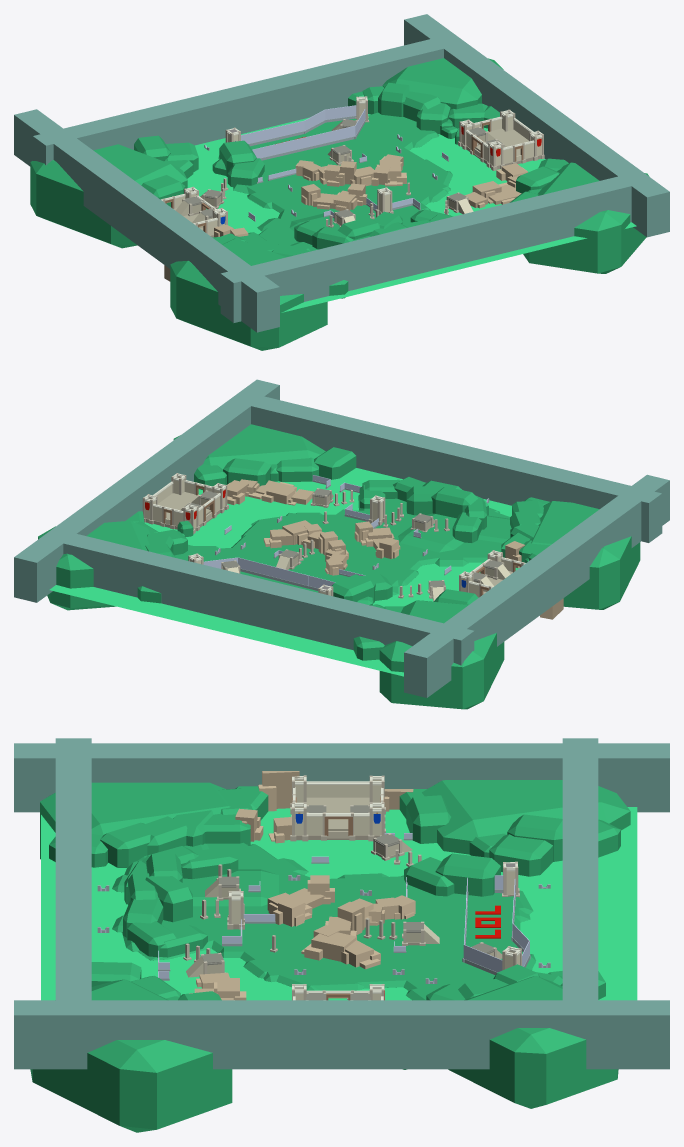
3 views of the same model, one above another, from view 1: azimuth 30°, elevation 25°; view 2: azimuth 150°, elevation 25°; view 3: azimuth 270°, elevation 25° (orthographic). The views are drawn at different scales.
Visible parts, largest first — view 1: Cube.131, Cube.130, Cube.010, Cube.049, aground, Plane.001, Cube.217, Cube.218, Cube.216, Cube.215, Cube.153, Cube.347 (+14 smaller); view 2: Cube.130, Cube.131, Cube.010, aground, Cube.049, Plane.001, Cube.218, Cube.217, Cube.215, Cube.216, Cube.134, Cube.138 (+11 smaller); view 3: Cube.049, Cube.010, aground, Plane.001, Cube.216, Cube.131, Cube.130, Cube.215, Cube.218, Cube.217, Cube.177, Cube.134 (+33 smaller).
Boxes of the visible parts, box(x1,y1,x2,y2) form: Cube.131: box(220, 176, 631, 322); Cube.130: box(33, 35, 465, 165); Cube.010: box(14, 109, 279, 332); Cube.049: box(404, 14, 669, 237); aground: box(187, 114, 636, 312); Plane.001: box(253, 115, 443, 245); Cube.217: box(170, 238, 327, 350); Cube.218: box(30, 144, 187, 248); Cube.216: box(523, 162, 649, 273); Cube.215: box(382, 58, 503, 109); Cube.153: box(378, 82, 409, 116); Cube.347: box(227, 158, 264, 186); Cube.130: box(43, 530, 474, 665); Cube.131: box(231, 392, 662, 542); Cube.010: box(404, 474, 669, 697); aground: box(49, 468, 518, 676); Cube.049: box(14, 379, 279, 602); Plane.001: box(174, 498, 503, 592); Cube.218: box(379, 600, 504, 709); Cube.217: box(525, 501, 640, 609); Cube.215: box(38, 520, 149, 610); Cube.216: box(173, 424, 325, 468); Cube.134: box(398, 513, 463, 552); Cube.138: box(314, 447, 356, 479); Cube.049: box(14, 1000, 669, 1069); Cube.010: box(14, 743, 669, 812); aground: box(41, 807, 637, 1000); Plane.001: box(161, 843, 515, 989); Cube.216: box(30, 979, 232, 1132); Cube.131: box(55, 738, 91, 1069); Cube.130: box(562, 738, 598, 1069); Cube.215: box(448, 976, 618, 1108); Cube.218: box(422, 780, 630, 854); Cube.217: box(40, 782, 257, 859); Cube.177: box(435, 853, 500, 896); Cube.134: box(182, 869, 278, 906).
Bounding box in the file's own units: 241 × 39.76 × 220.
